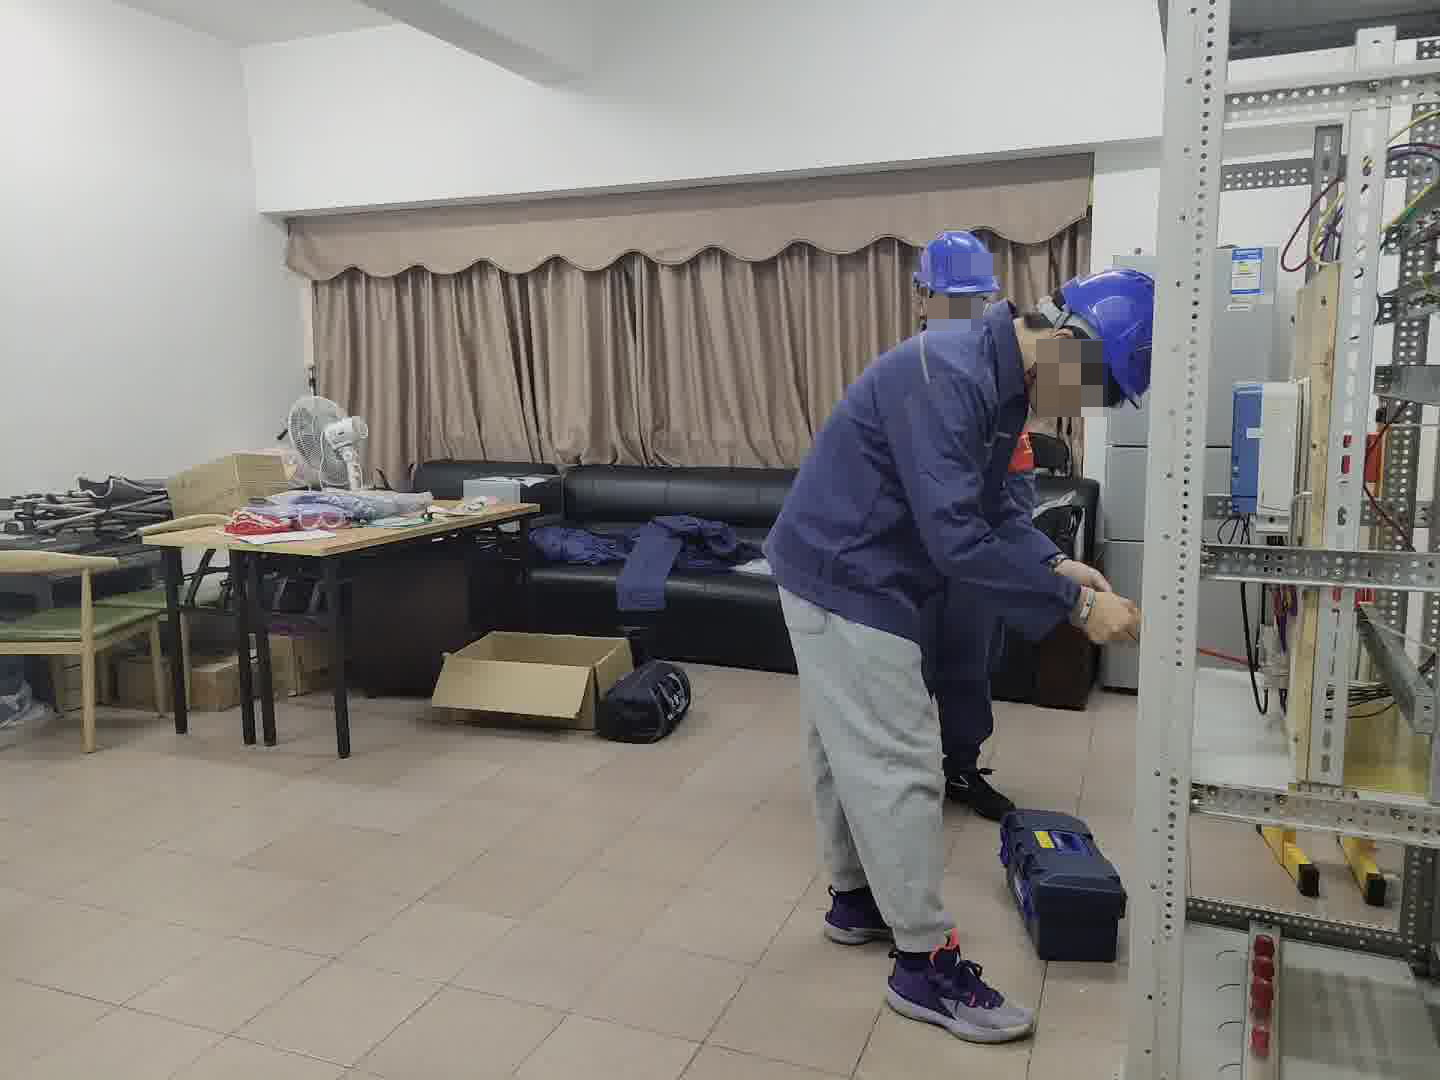badge: (1002, 419, 1036, 475)
downcloth: (775, 598, 954, 948)
halt: (1048, 273, 1169, 425), (907, 227, 1005, 317)
hand: (1075, 564, 1141, 650)
inear: (1028, 320, 1086, 394)
person: (766, 280, 1131, 1047), (881, 224, 1041, 826)
upsuit: (773, 306, 1050, 581)
